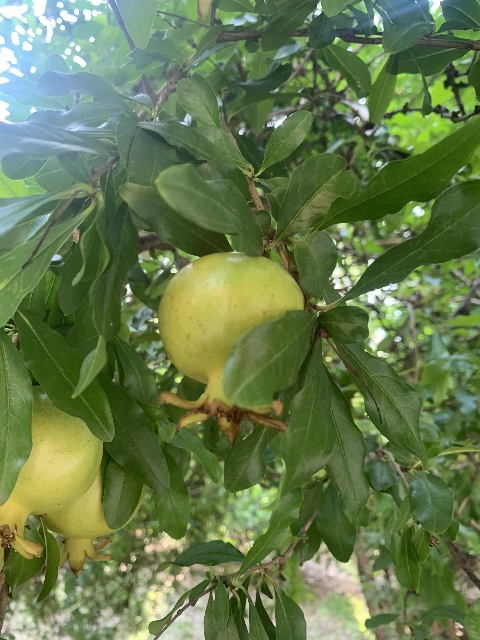mid-growth: (156, 250, 303, 443), (0, 384, 103, 560), (42, 464, 146, 578)
